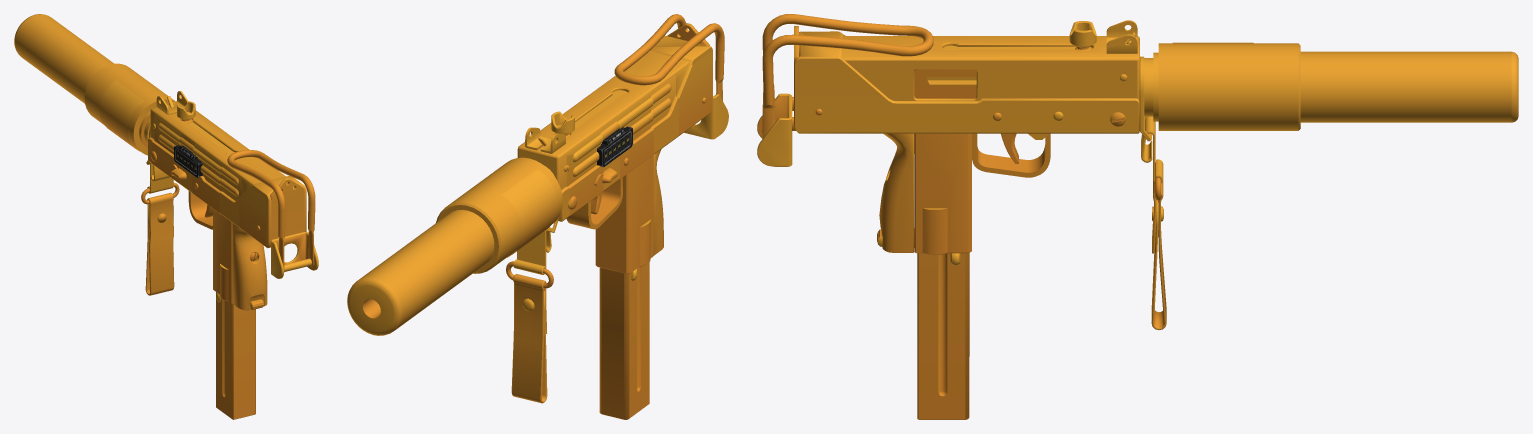
The model's file is mac10.glb.
3 renders of one model, left to right at view 1: azimuth 30°, elevation 25°; view 2: azimuth 150°, elevation 25°; view 3: azimuth 270°, elevation 25°, orthographic. The views are drawn at different scales.
Parts seen in each view (by area): view 1: LOD_Template.001, Magazine1.001, Handle2, Sticker1, Sticker3, Sticker4, Sticker2, Gunlock1.001, StatTrack.003, Handle1; view 2: LOD_Template.001, Magazine1.001, Handle2, Sticker1, Sticker2, Sticker4, Sticker3, Handle1, StatTrack.003, Gunlock1.001; view 3: LOD_Template.001, Magazine1.001, Gunlock1.001, Handle2, Handle1.
Part boxes in pixels (bbox=[...]): LOD_Template.001: bbox=[14, 14, 318, 310]; Magazine1.001: bbox=[216, 292, 255, 419]; Handle2: bbox=[141, 182, 179, 295]; Sticker1: bbox=[99, 80, 144, 151]; Sticker3: bbox=[192, 143, 221, 212]; Sticker4: bbox=[239, 178, 265, 246]; Sticker2: bbox=[150, 114, 181, 182]; Gunlock1.001: bbox=[176, 101, 234, 155]; StatTrack.003: bbox=[174, 145, 202, 177]; Handle1: bbox=[147, 164, 173, 193]; LOD_Template.001: bbox=[347, 14, 728, 335]; Magazine1.001: bbox=[599, 262, 649, 419]; Handle2: bbox=[506, 261, 553, 403]; Sticker1: bbox=[501, 168, 557, 257]; Sticker2: bbox=[566, 129, 611, 215]; Sticker4: bbox=[676, 51, 712, 134]; Sticker3: bbox=[617, 92, 653, 178]; Handle1: bbox=[513, 227, 551, 274]; StatTrack.003: bbox=[597, 126, 632, 167]; Gunlock1.001: bbox=[551, 90, 627, 136]; LOD_Template.001: bbox=[757, 14, 1518, 254]; Magazine1.001: bbox=[917, 253, 969, 419]; Gunlock1.001: bbox=[914, 21, 1096, 98]; Handle2: bbox=[1151, 162, 1166, 329]; Handle1: bbox=[1141, 116, 1163, 182].
Size of the model in its own units: 0.0737 by 0.3531 by 0.6293.
6 materials, 6 textured.
